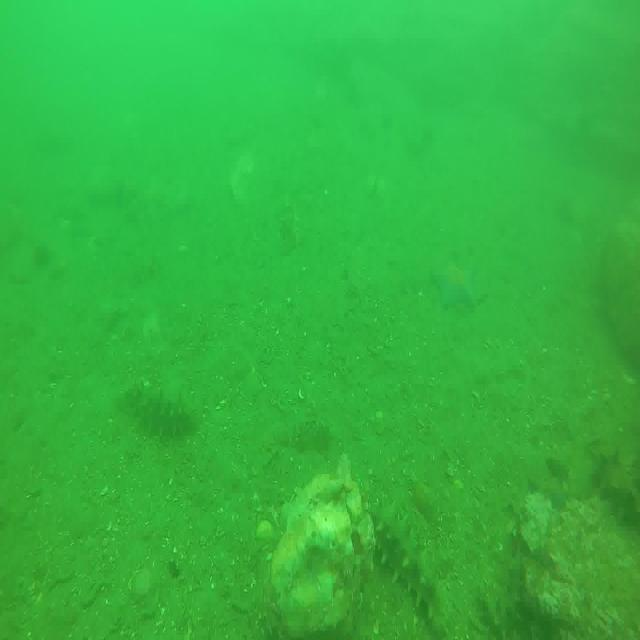holothurian: (370, 498, 454, 636), (121, 380, 202, 440), (590, 443, 640, 534)
starfish: (431, 255, 478, 312)
